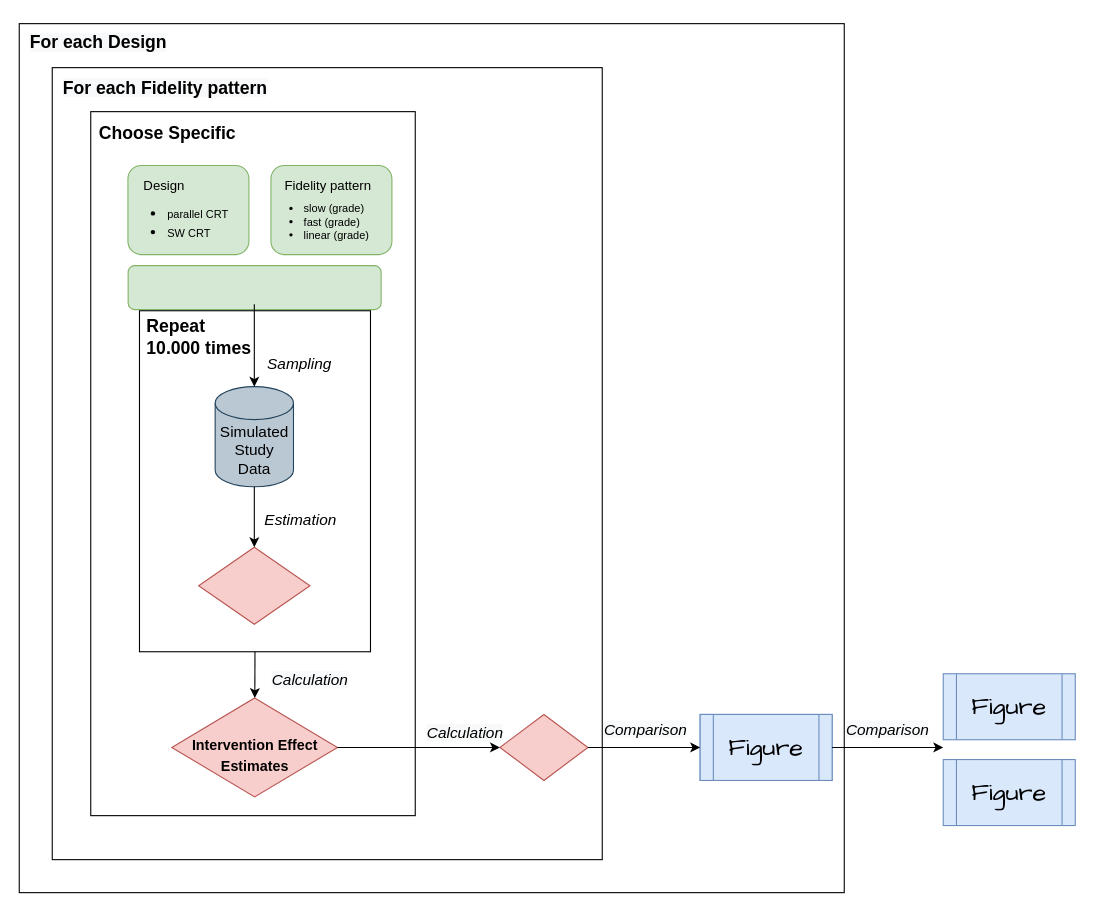
Some shapes in this 1095 by 912 pixel diagram are drawn without their labels. Each missing label, with the centre of its shape:
"Defined Study" belongs at point (254, 287).
"Intervention Effect" belongs at point (254, 585).
"Power" belongs at point (543, 746).
